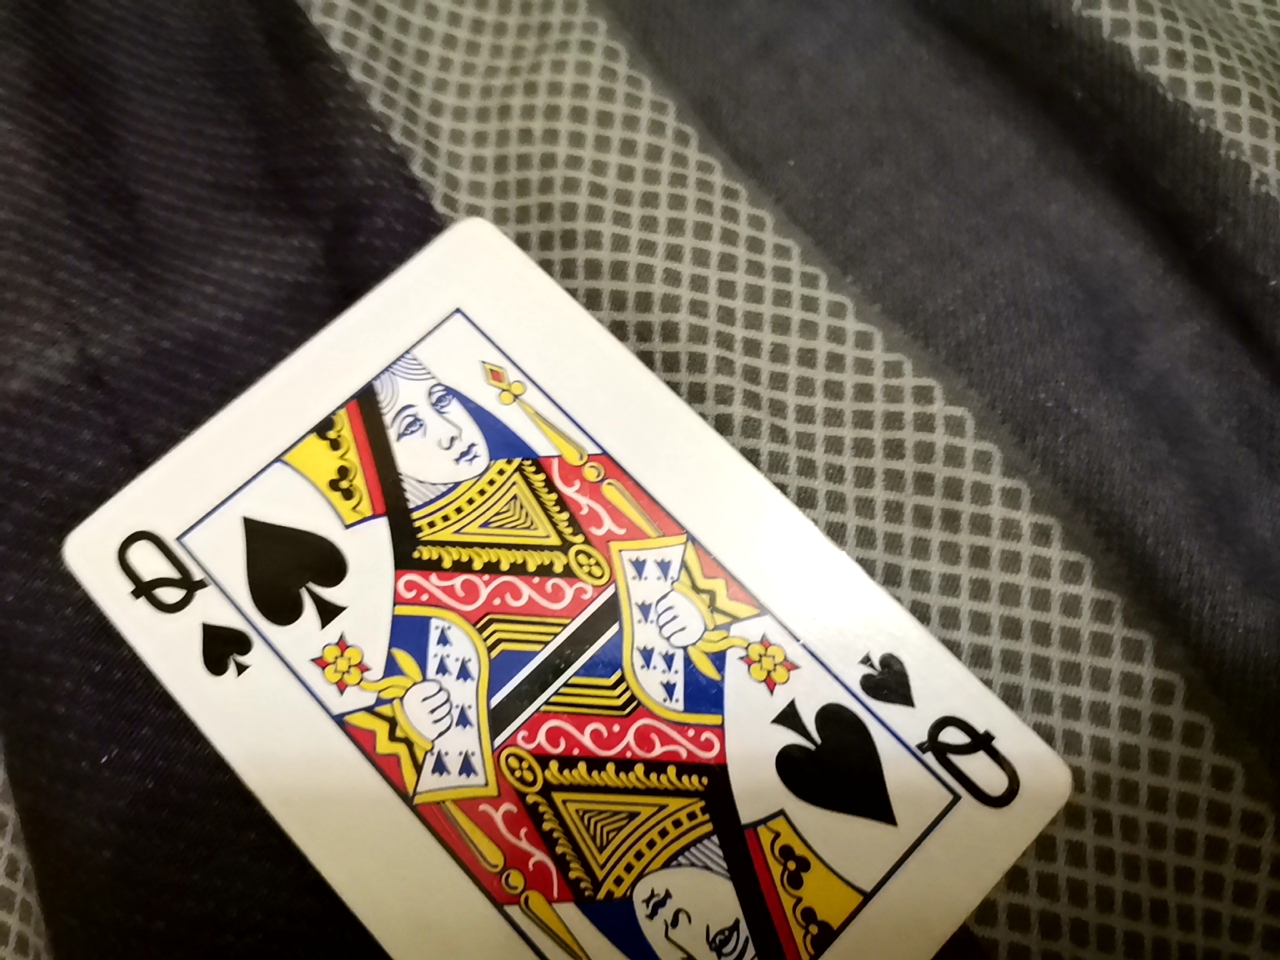ht q: (39, 218, 1060, 959)
